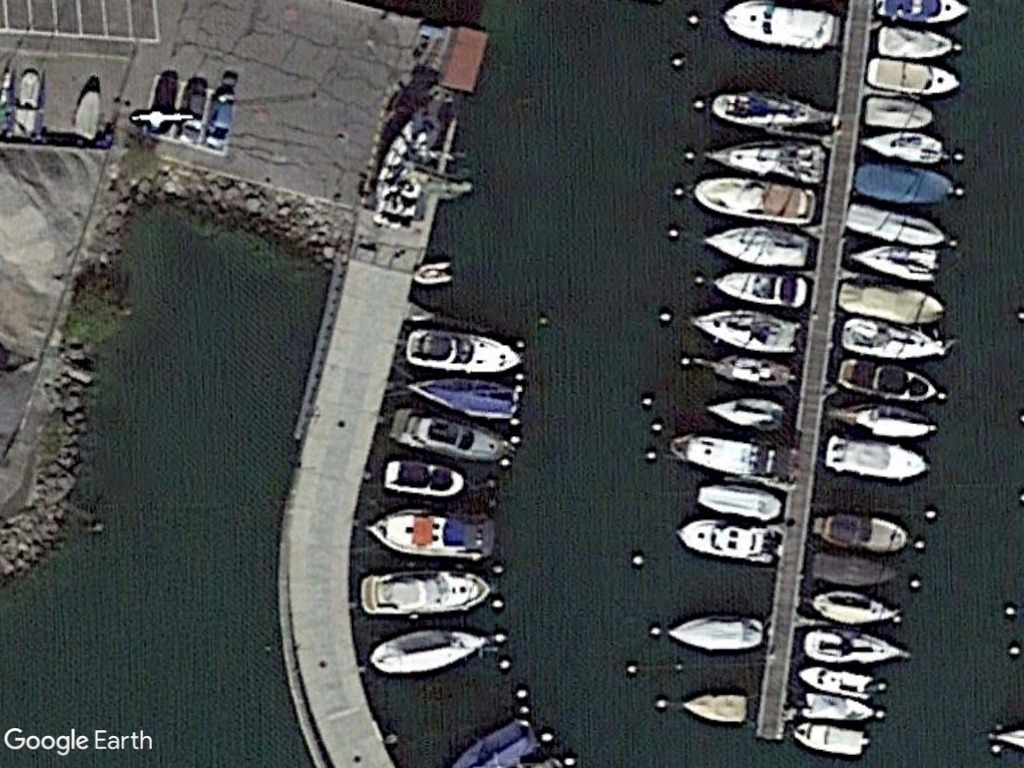boat: (352, 562, 496, 620), (362, 505, 501, 563), (368, 615, 493, 679), (387, 402, 519, 462), (702, 131, 831, 186), (717, 0, 847, 53), (688, 173, 823, 224), (400, 326, 526, 378), (409, 373, 523, 430), (659, 428, 784, 479), (822, 428, 936, 483), (687, 304, 803, 357), (699, 221, 815, 273), (675, 514, 789, 566), (833, 314, 949, 363), (704, 89, 832, 131), (836, 278, 950, 324), (829, 359, 941, 405), (797, 627, 910, 672), (847, 201, 950, 250), (705, 266, 814, 312), (807, 510, 913, 557), (665, 611, 773, 657), (700, 352, 800, 397), (863, 55, 965, 99), (690, 479, 789, 523), (804, 586, 906, 627), (375, 456, 472, 499), (849, 241, 943, 285), (852, 163, 958, 202), (694, 397, 791, 437), (810, 549, 900, 592), (786, 714, 870, 760), (787, 662, 881, 701), (860, 126, 950, 165), (873, 23, 960, 60), (677, 688, 755, 728), (791, 692, 884, 724), (859, 97, 940, 133), (410, 256, 456, 286)
